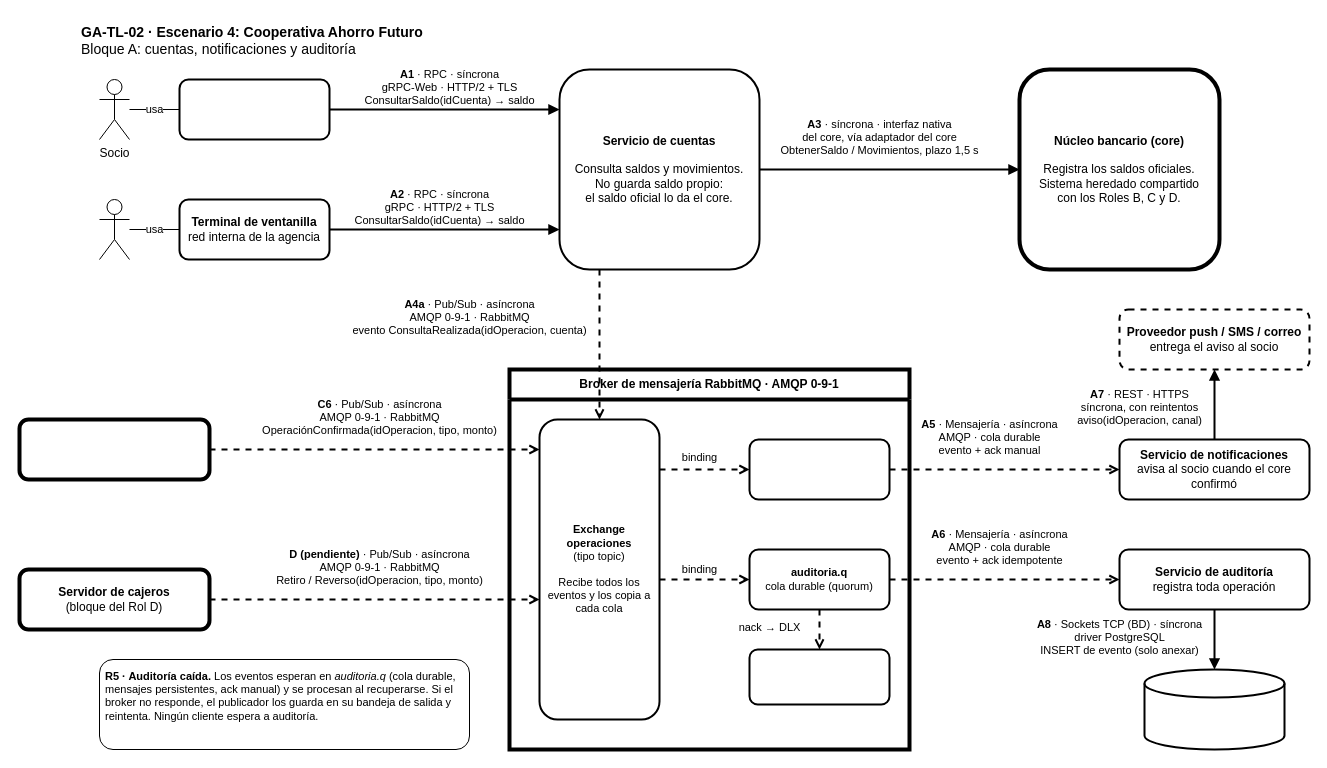
Image size: 1327x768. Some labels were removed from this diagram. The centre of each missing label's shape, as x and y in pixels:
"auditoria.dlq mensajes no procesables" goes at pixel 819 676.
"Base de auditoría solo anexar" goes at pixel 1214 709.
"Cajero de ventanilla" goes at pixel 114 229.
"Cliente banca móvil/web app móvil y navegador" goes at pixel 254 109.
"notificaciones.q cola durable" goes at pixel 819 469.
"Servicio de transferencias (bloque del Rol B)" goes at pixel 114 449.
